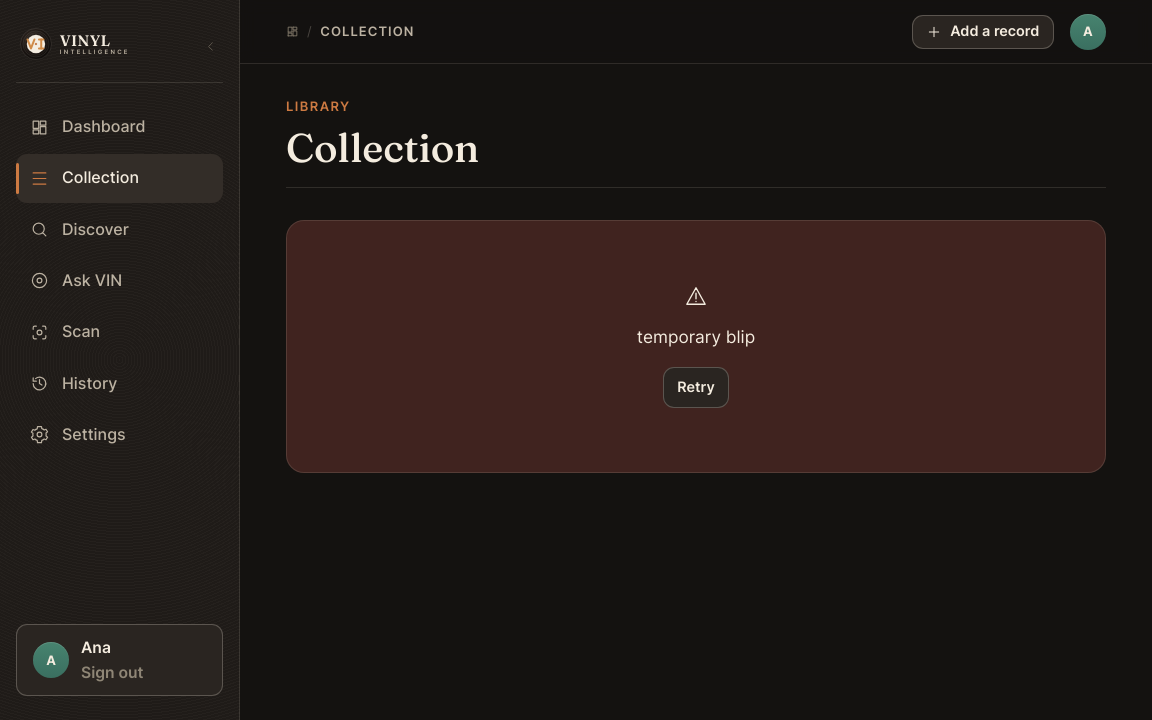
Test case: Independent collection / listening error handling (Finding 2) › G. retry recovers after a collection load error
Expected: the text "temporary blip" is shown, left=637, top=323, right=755, bottom=350
Click the button "Retry". click: (696, 387)
box: left=663, top=366, right=729, bottom=408
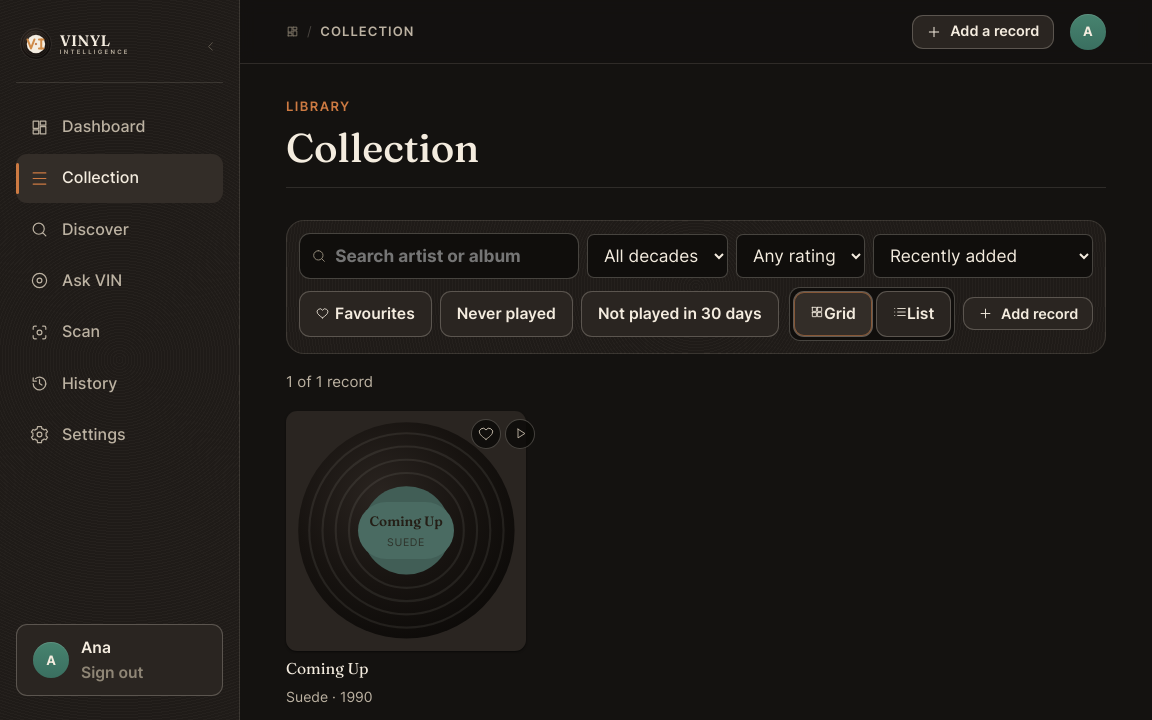
Expected: the 1st text "Suede" is shown, left=387, top=536, right=425, bottom=549
